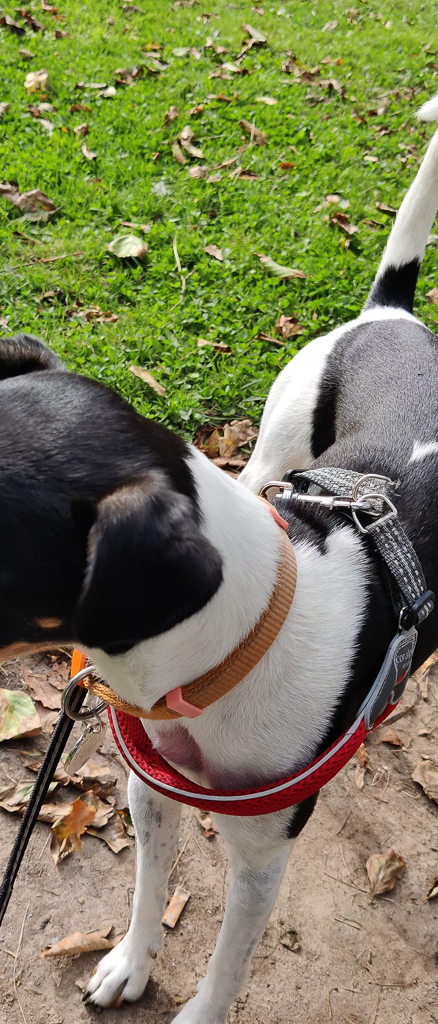Dog: (0, 81, 438, 1024)
